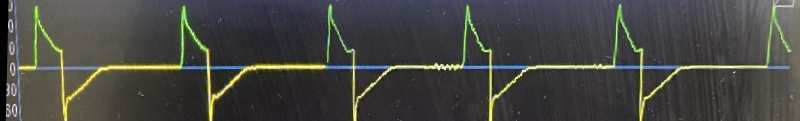normal_flow: (18, 0, 757, 121)
